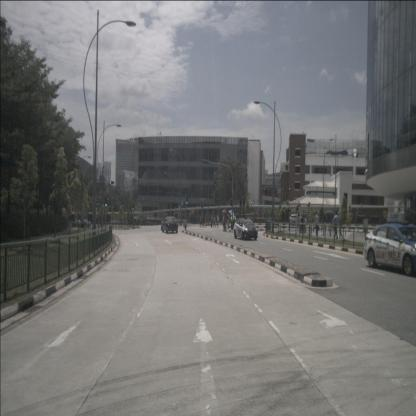human-pedestrian-adult: (332, 212, 339, 241), (338, 213, 344, 241), (314, 211, 320, 238), (296, 213, 301, 234), (300, 214, 304, 235), (222, 215, 226, 232), (210, 214, 214, 229), (200, 214, 204, 229), (216, 214, 220, 229), (224, 214, 227, 232), (213, 214, 216, 228), (204, 215, 207, 227), (233, 216, 235, 230)
vehicle-car: (363, 224, 416, 276), (234, 217, 258, 240), (162, 216, 178, 233), (290, 214, 306, 226)
